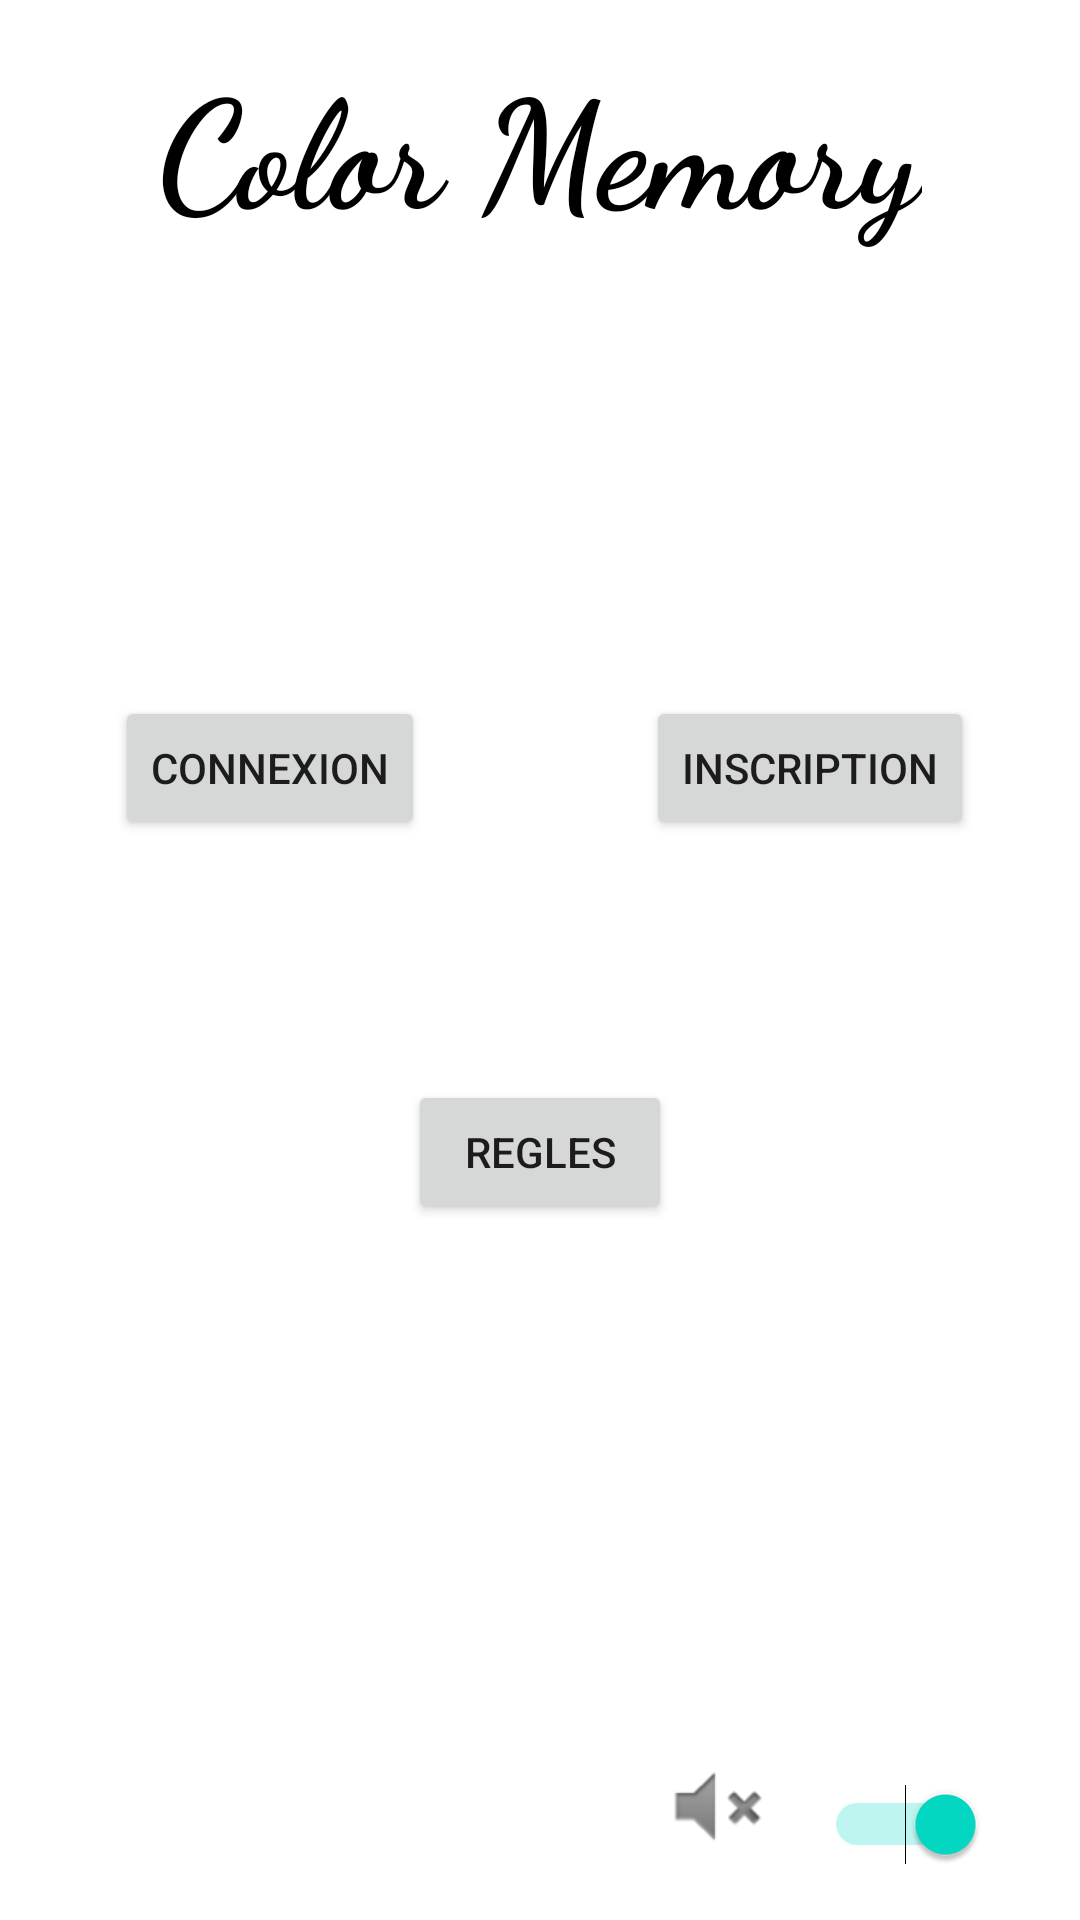

Icons on this 1080x1920 Android screen, each with its box as (x1, y1, x2, y2):
lock silent mode: (675, 1773, 762, 1840)
